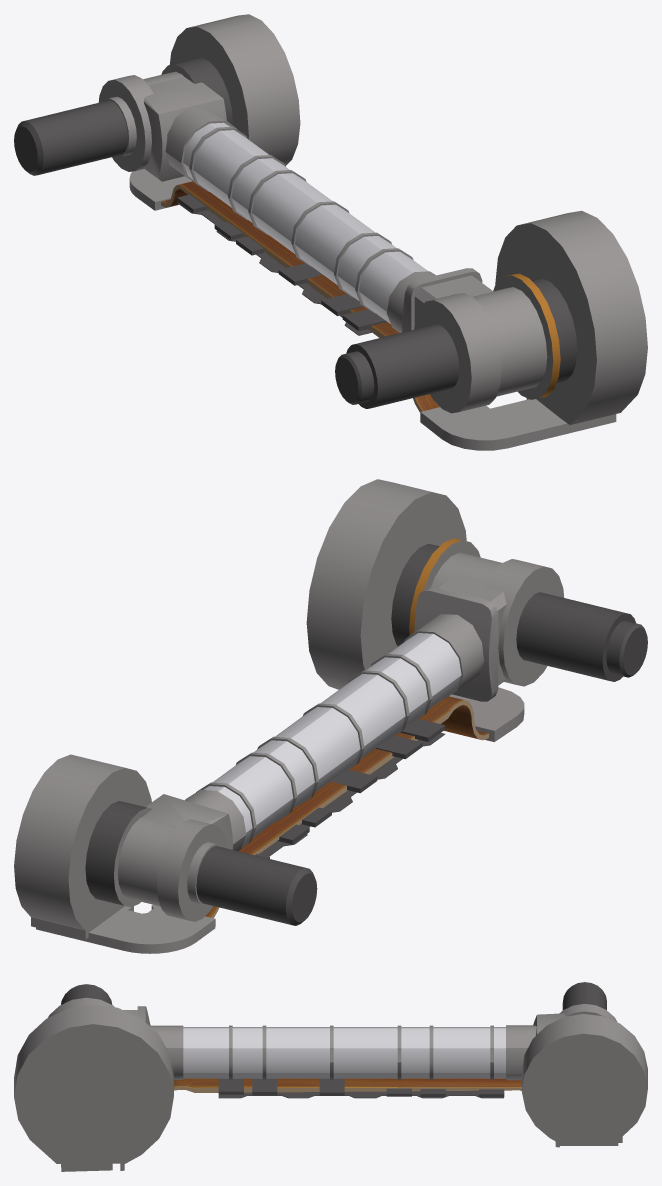
File: scaner_link1.glb
3 views of the same model, one above another, from view 1: azimuth 30°, elevation 25°; view 2: azimuth 150°, elevation 25°; view 3: azimuth 270°, elevation 25° (orthographic). The views are drawn at different scales.
Visible parts, largest first — view 1: arm; view 2: arm; view 3: arm.
Part boxes in pixels (x1,y1,x2,y2): arm: (14,14,647,450); arm: (14,479,647,953); arm: (14,982,647,1171).
Bounding box in the file's own units: 0.356 × 0.2476 × 0.9582.
8 materials, 3 textured.
